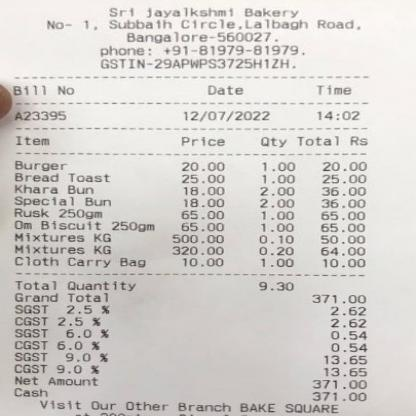receipts: (6, 6, 396, 414)
